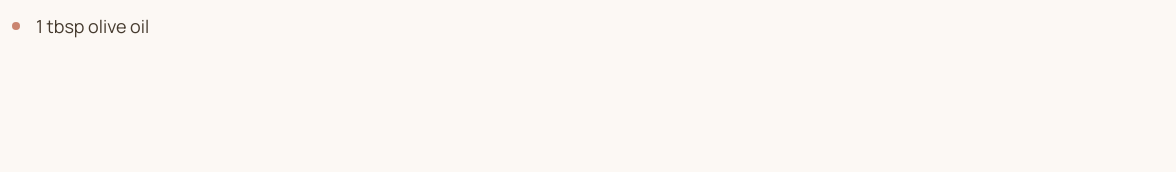
Test: IngredientsChecklist › does not persist done state across remounts or web storage
Later steps or results of the test are not shown.
Click the button "1 tbsp olive oil". click: [93, 26]
box: [12,12,1164,40]
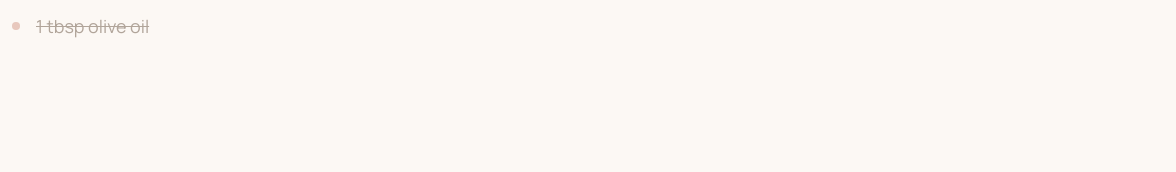
Result: the button "1 tbsp olive oil" is pressed at [12,12,1164,40]
